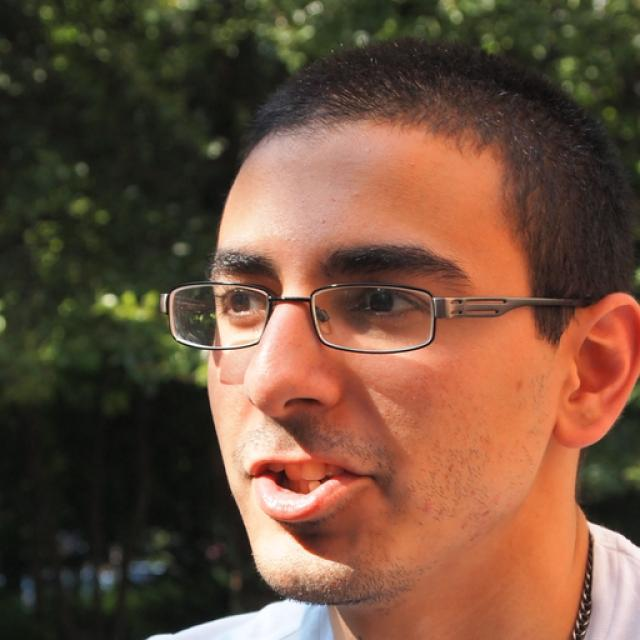neutral: (203, 116, 556, 604)
